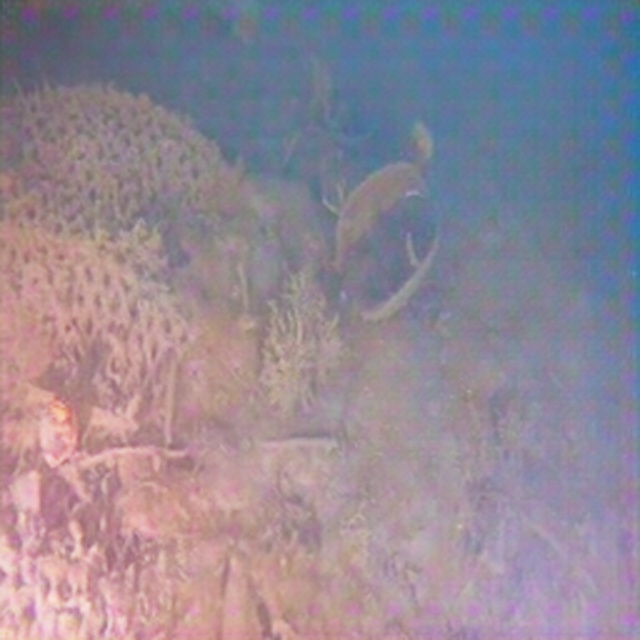mine: (0, 81, 274, 445)
